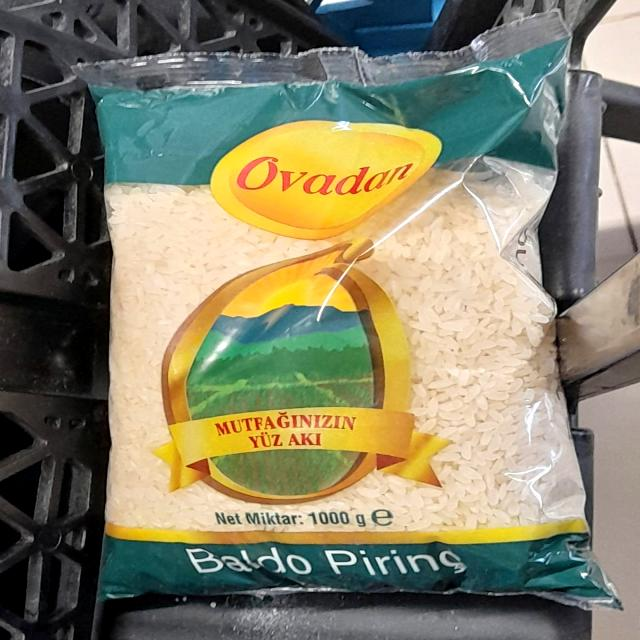rice: (85, 82, 607, 602)
